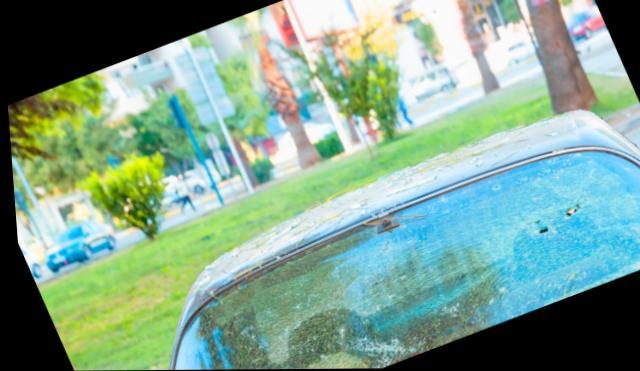glass shatter: (168, 151, 640, 370)
